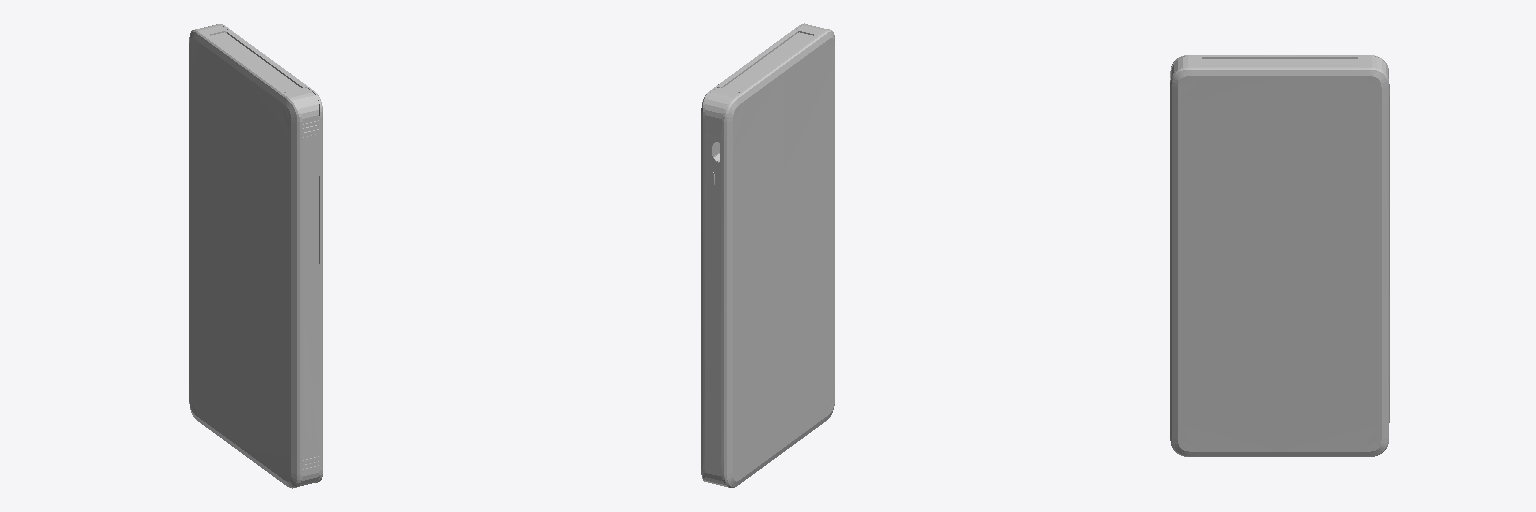
3 views of the same model, side by side, from view 1: azimuth 30°, elevation 25°; view 2: azimuth 150°, elevation 25°; view 3: azimuth 270°, elevation 25° (orthographic).
Parts seen in each view (by area): view 1: powerbank_base_Cube.089, plug_lightning_Cube.092; view 2: powerbank_base_Cube.089, plug_lightning_Cube.092; view 3: powerbank_base_Cube.089, plug_lightning_Cube.092.
Boxes of the visible parts, box(x1,y1,x2,y2) form: powerbank_base_Cube.089: box(189, 24, 322, 488); plug_lightning_Cube.092: box(196, 24, 318, 136); powerbank_base_Cube.089: box(701, 23, 834, 487); plug_lightning_Cube.092: box(705, 24, 826, 136); powerbank_base_Cube.089: box(1170, 55, 1389, 456); plug_lightning_Cube.092: box(1170, 56, 1388, 79).
Bounding box in the file's own units: 0.0118 × 0.137 × 0.0702.